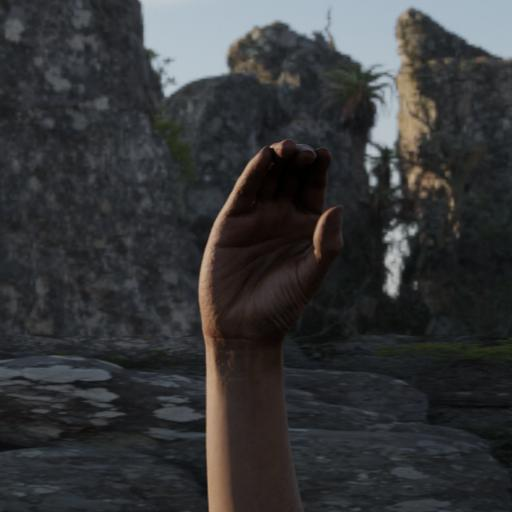C: (164, 122, 380, 336)
